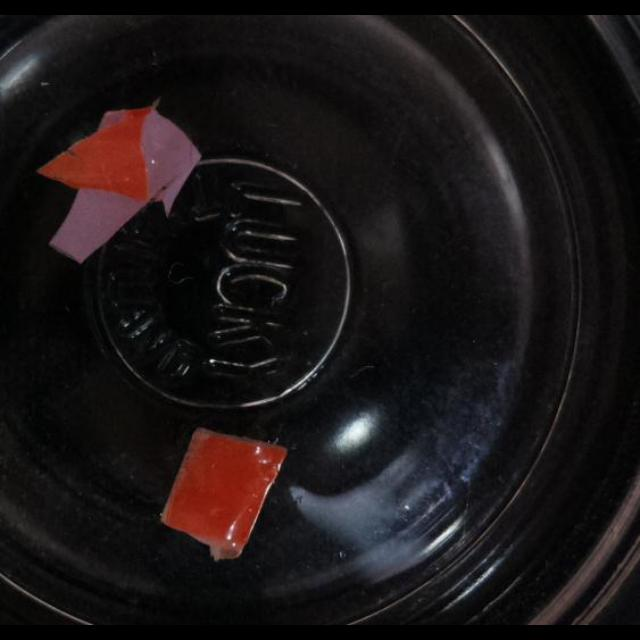Fragment: (38, 101, 198, 262), (152, 425, 294, 565)
